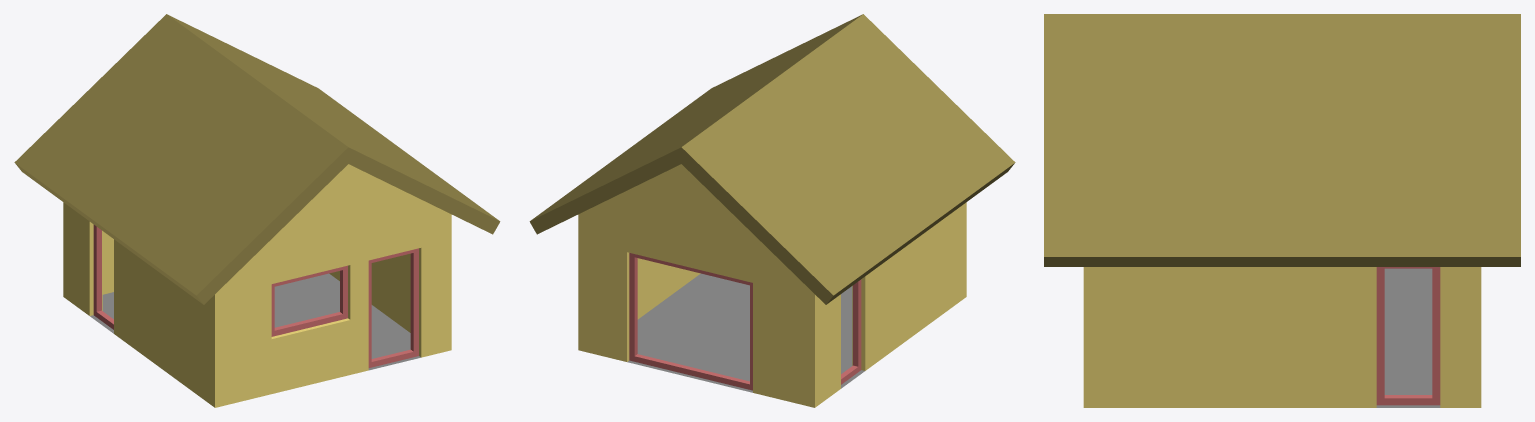
The model's file is result.glb.
3 renders of one model, left to right at view 1: azimuth 30°, elevation 25°; view 2: azimuth 150°, elevation 25°; view 3: azimuth 270°, elevation 25°, orthographic. The views are drawn at different scales.
Parts seen in each view (by area): view 1: 09b5b5f9-c1b1-4968-b9a4-45b7f27817c0__undefined (×2), 30fd24c0-c00b-4876-91d7-5ea317702b27__undefined, 1a7ca50c-5d8c-43fe-94af-d36c048f2749__Plane_6, f36a6c49-5913-4ba9-8ce9-57ee07918a61__Box, bff527d5-4f72-45d4-85df-2163d4cc83d6__Box_3, 99693955-4e9f-497f-91c0-aa497323b998__Box_12; view 2: 09b5b5f9-c1b1-4968-b9a4-45b7f27817c0__undefined (×2), 30fd24c0-c00b-4876-91d7-5ea317702b27__undefined, 1a7ca50c-5d8c-43fe-94af-d36c048f2749__Plane_6, c8bf4dfc-8811-44f1-ab13-8cca367ec563__Box_9, 99693955-4e9f-497f-91c0-aa497323b998__Box_12; view 3: 09b5b5f9-c1b1-4968-b9a4-45b7f27817c0__undefined, 30fd24c0-c00b-4876-91d7-5ea317702b27__undefined, 1a7ca50c-5d8c-43fe-94af-d36c048f2749__Plane_6, 8b148c3b-0f8c-41f0-a79c-36813ff1c36e__Box_15.
Part boxes in pixels (x1,y1,x2,y2): 09b5b5f9-c1b1-4968-b9a4-45b7f27817c0__undefined (×2): [14, 14, 500, 304]; 30fd24c0-c00b-4876-91d7-5ea317702b27__undefined: [63, 164, 451, 407]; 1a7ca50c-5d8c-43fe-94af-d36c048f2749__Plane_6: [90, 273, 420, 370]; f36a6c49-5913-4ba9-8ce9-57ee07918a61__Box: [368, 248, 418, 367]; bff527d5-4f72-45d4-85df-2163d4cc83d6__Box_3: [271, 265, 347, 336]; 99693955-4e9f-497f-91c0-aa497323b998__Box_12: [93, 224, 113, 329]; 09b5b5f9-c1b1-4968-b9a4-45b7f27817c0__undefined (×2): [529, 14, 1015, 304]; 30fd24c0-c00b-4876-91d7-5ea317702b27__undefined: [578, 164, 966, 407]; 1a7ca50c-5d8c-43fe-94af-d36c048f2749__Plane_6: [627, 273, 864, 392]; c8bf4dfc-8811-44f1-ab13-8cca367ec563__Box_9: [629, 253, 752, 390]; 99693955-4e9f-497f-91c0-aa497323b998__Box_12: [841, 279, 861, 384]; 09b5b5f9-c1b1-4968-b9a4-45b7f27817c0__undefined: [1044, 14, 1520, 266]; 30fd24c0-c00b-4876-91d7-5ea317702b27__undefined: [1083, 267, 1481, 407]; 1a7ca50c-5d8c-43fe-94af-d36c048f2749__Plane_6: [1376, 268, 1440, 407]; 8b148c3b-0f8c-41f0-a79c-36813ff1c36e__Box_15: [1376, 267, 1440, 405].
Size of the model in its own units: 579 by 442 by 600.
